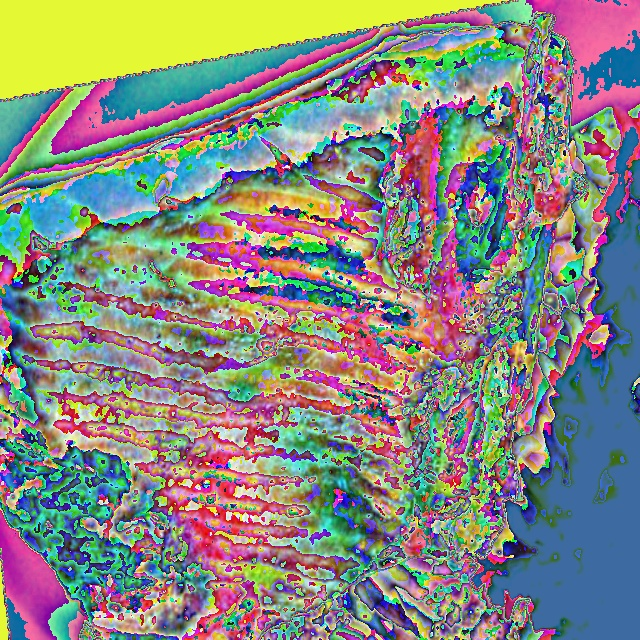background: (0, 12, 640, 639)
